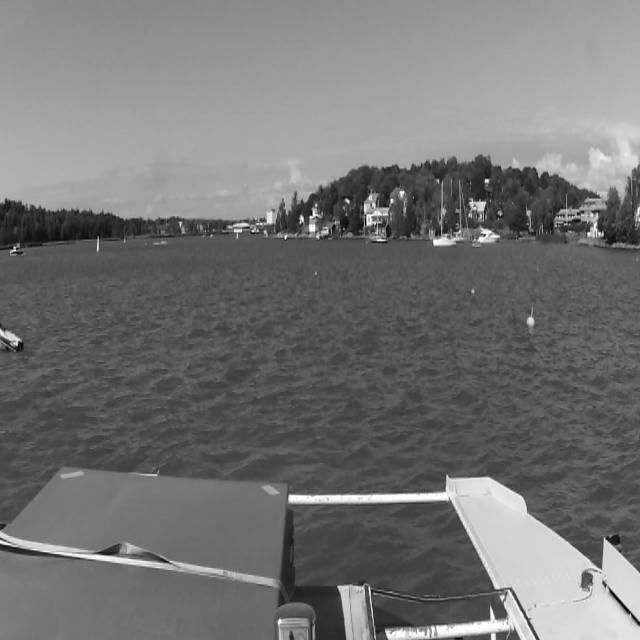buoy: (95, 234, 101, 253), (123, 233, 127, 245), (236, 231, 238, 241)
ship: (431, 178, 455, 250), (452, 178, 476, 242), (369, 200, 389, 244), (476, 228, 504, 242), (9, 241, 25, 257), (471, 238, 483, 250), (157, 236, 168, 244), (210, 231, 213, 237)
